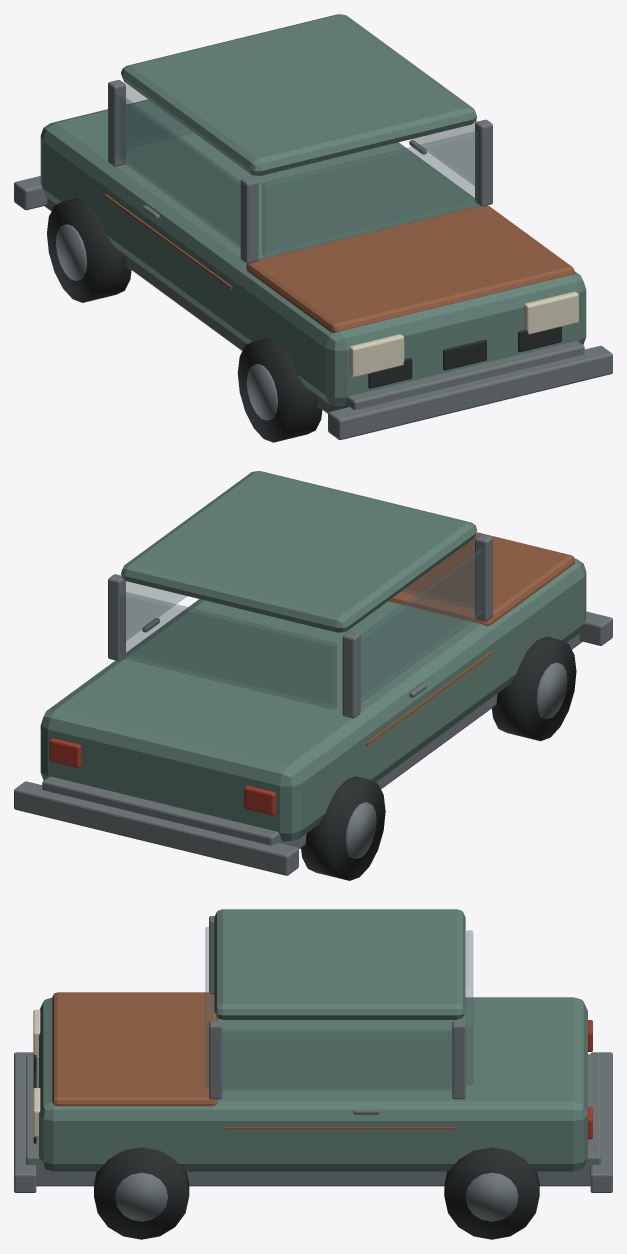
File: escape_car.glb
3 renders of one model, top to bottom at view 1: azimuth 30°, elevation 25°; view 2: azimuth 150°, elevation 25°; view 3: azimuth 270°, elevation 25°, orthographic. The views are drawn at different scales.
Visible parts, largest first — view 1: Body, Roof, Hood, Front windshield, Side glass, Front bumper, Chassis, Wheel_LF, Wheel_LR, Rear windshield, Side glass.001, Headlamp (+11 smaller); view 2: Body, Roof, Rear windshield, Side glass, Hood, Rear bumper, Chassis, Wheel_LF, Wheel_LR, Front windshield, Side glass.001, Roof pillar (+8 smaller); view 3: Body, Roof, Hood, Side glass.001, Chassis, Wheel_RR, Wheel_RF, Hub_RR, Hub_RF, Rear bumper, Front bumper, Roof pillar.003 (+5 smaller).
Boxes of the visible parts, x1=… form: Body: x1=40, y1=99, x2=586, y2=405; Roof: x1=121, y1=14, x2=476, y2=175; Hood: x1=246, y1=205, x2=574, y2=332; Front windshield: x1=262, y1=131, x2=478, y2=256; Side glass: x1=116, y1=93, x2=240, y2=248; Front bumper: x1=328, y1=345, x2=612, y2=439; Chassis: x1=44, y1=198, x2=584, y2=413; Wheel_LF: x1=237, y1=338, x2=322, y2=442; Wheel_LR: x1=47, y1=198, x2=131, y2=302; Rear windshield: x1=124, y1=82, x2=192, y2=148; Side glass.001: x1=411, y1=120, x2=477, y2=185; Headlamp: x1=349, y1=334, x2=404, y2=377; Body: x1=40, y1=558, x2=586, y2=841; Roof: x1=121, y1=471, x2=476, y2=632; Rear windshield: x1=120, y1=592, x2=336, y2=709; Side glass: x1=361, y1=547, x2=484, y2=702; Hood: x1=388, y1=532, x2=574, y2=626; Rear bumper: x1=14, y1=781, x2=298, y2=875; Chassis: x1=42, y1=633, x2=582, y2=848; Wheel_LF: x1=492, y1=636, x2=576, y2=741; Wheel_LR: x1=301, y1=776, x2=385, y2=880; Front windshield: x1=401, y1=535, x2=478, y2=609; Side glass.001: x1=126, y1=581, x2=186, y2=640; Roof pillar: x1=342, y1=631, x2=360, y2=718; Body: x1=39, y1=997, x2=587, y2=1171; Roof: x1=214, y1=909, x2=465, y2=1019; Hood: x1=52, y1=992, x2=217, y2=1106; Side glass.001: x1=222, y1=1030, x2=452, y2=1089; Chassis: x1=26, y1=1054, x2=600, y2=1186; Wheel_RR: x1=444, y1=1147, x2=539, y2=1239; Wheel_RF: x1=94, y1=1147, x2=189, y2=1239; Hub_RR: x1=465, y1=1172, x2=518, y2=1221; Hub_RF: x1=115, y1=1172, x2=167, y2=1221; Rear bumper: x1=590, y1=1052, x2=612, y2=1192; Front bumper: x1=14, y1=1052, x2=36, y2=1192; Roof pillar.003: x1=209, y1=1021, x2=222, y2=1099.
Size of the model in its own units: 2.34 by 1.82 by 4.53.
